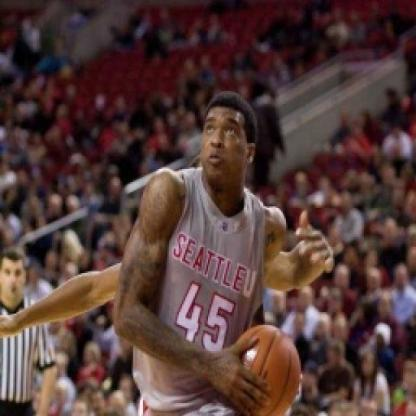basketball: (226, 320, 304, 416)
